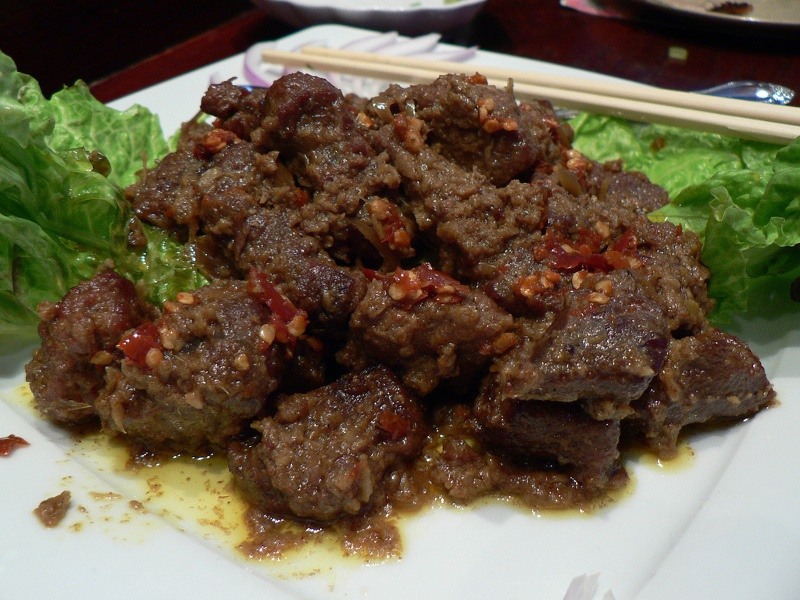rendang: (94, 84, 764, 493)
